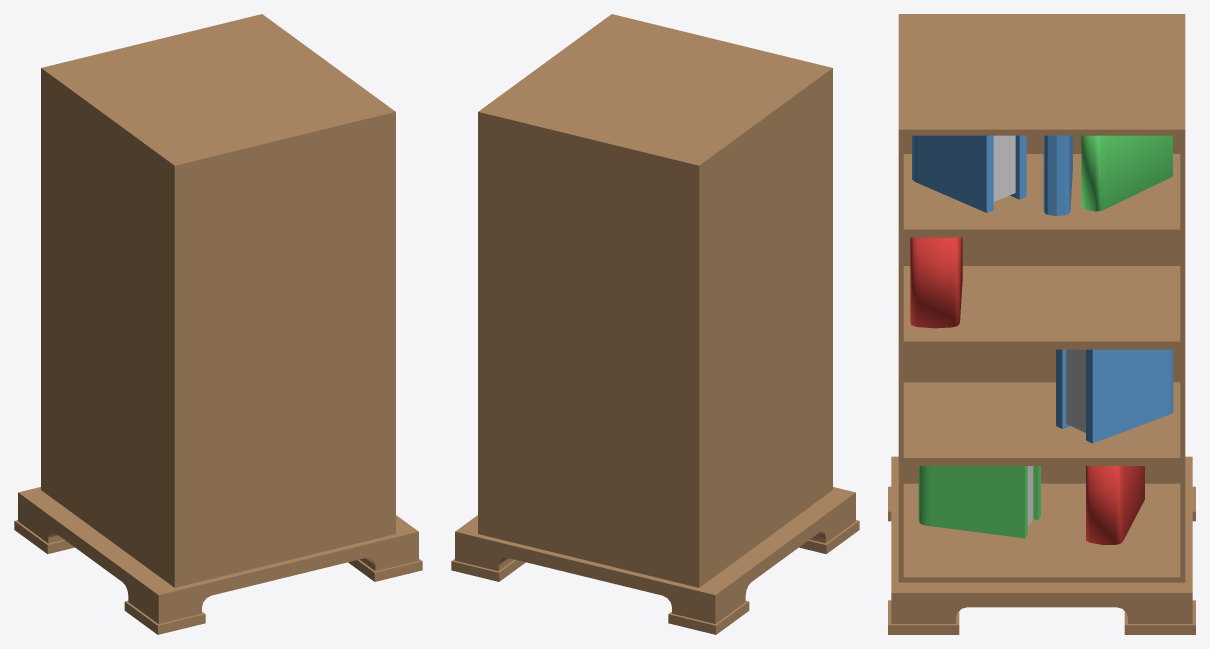
Rendered from BookShelf.glb.
3 renders of one model, left to right at view 1: azimuth 30°, elevation 25°; view 2: azimuth 150°, elevation 25°; view 3: azimuth 270°, elevation 25°, orthographic. The views are drawn at different scales.
Parts seen in each view (by area): view 1: Cube, Cube.004; view 2: Cube, Cube.004; view 3: Cube, Cube.001, Cube.003, Cube.004, Cube.002, Cube.006, Cube.009, Cube.005, Cube.011, Cube.007, Cube.008, Cube.010.
Part boxes in pixels (bbox=[...]): Cube: bbox=[41, 14, 395, 587]; Cube.004: bbox=[14, 487, 422, 634]; Cube: bbox=[478, 14, 832, 587]; Cube.004: bbox=[451, 487, 859, 634]; Cube: bbox=[898, 14, 1185, 582]; Cube.001: bbox=[903, 266, 1180, 349]; Cube.003: bbox=[903, 382, 1180, 465]; Cube.004: bbox=[888, 456, 1195, 634]; Cube.002: bbox=[903, 154, 1180, 237]; Cube.006: bbox=[1056, 349, 1173, 443]; Cube.009: bbox=[918, 466, 1040, 538]; Cube.005: bbox=[912, 135, 1026, 212]; Cube.011: bbox=[1081, 135, 1172, 211]; Cube.007: bbox=[910, 237, 962, 328]; Cube.008: bbox=[1086, 466, 1144, 544]; Cube.010: bbox=[1043, 135, 1072, 215].
Size of the model in its own units: 5.46 by 9.08 by 5.13.
